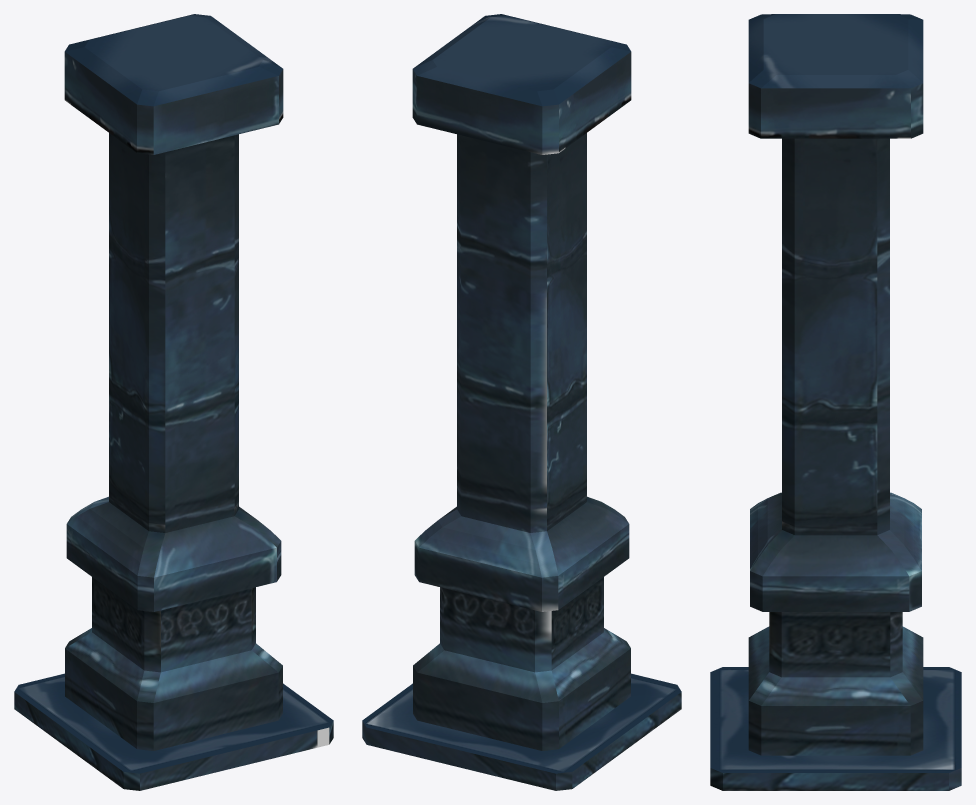
The model's file is Coluna.fbx.
3 views of the same model, side by side, from view 1: azimuth 30°, elevation 25°; view 2: azimuth 150°, elevation 25°; view 3: azimuth 270°, elevation 25° (orthographic). The views are drawn at different scales.
Parts seen in each view (by area): view 1: Cube; view 2: Cube; view 3: Cube.
Boxes of the visible parts, x1,y1,x2,y2 form: Cube: (14, 14, 333, 790); Cube: (362, 14, 681, 790); Cube: (710, 14, 961, 790).
Bounding box in the file's own units: 314 × 957 × 314.
1 material, 1 textured.
